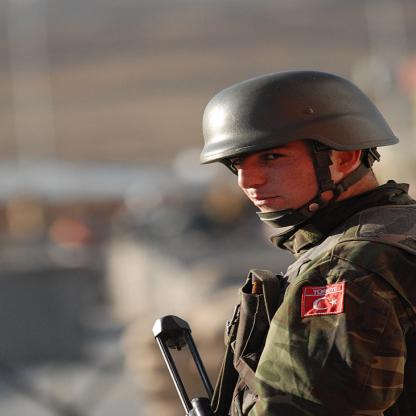Helmet: (197, 70, 400, 220)
